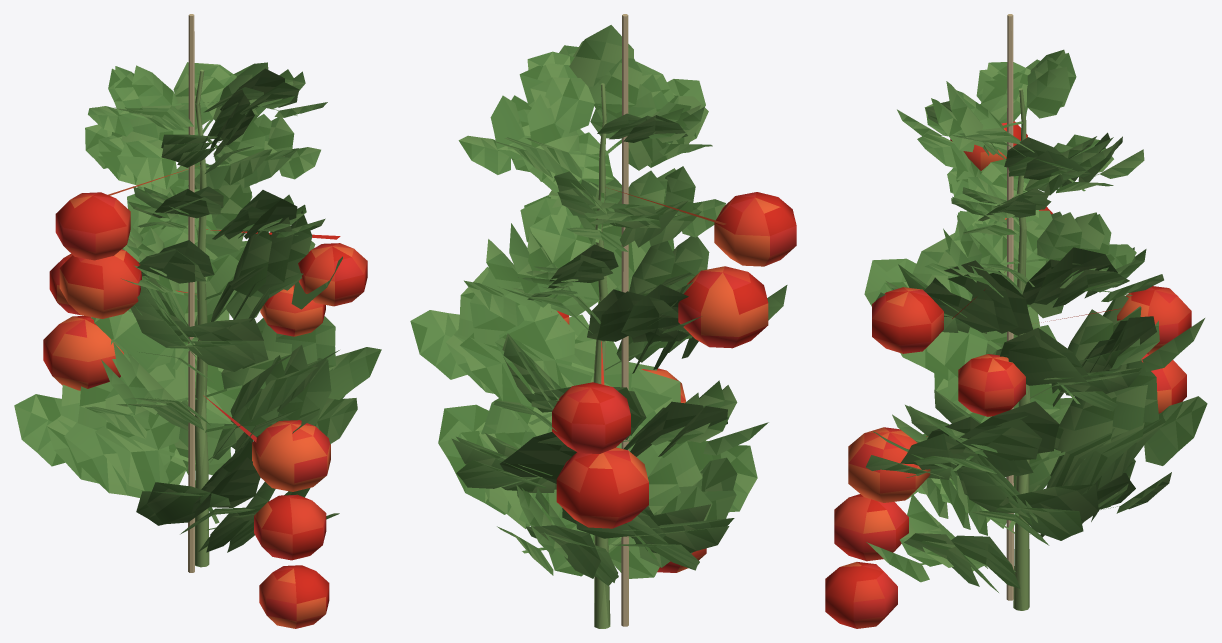
The model's file is tomate_coeur_mur.glb.
The picture shows the model from 3 angles, left to right: view 1: azimuth 30°, elevation 25°; view 2: azimuth 150°, elevation 25°; view 3: azimuth 270°, elevation 25°; orthographic projection. The views are drawn at different scales.
Visible parts, largest first — view 1: Tomate_Feuilles, Tomate_Fruits, Tomate_Tige, Tomate_Tuteur; view 2: Tomate_Feuilles, Tomate_Fruits, Tomate_Tuteur, Tomate_Tige; view 3: Tomate_Feuilles, Tomate_Fruits, Tomate_Tige, Tomate_Tuteur.
Part boxes in pixels (x1,y1,x2,y2): Tomate_Feuilles: (14, 62, 381, 552); Tomate_Fruits: (43, 169, 367, 628); Tomate_Tige: (195, 69, 209, 567); Tomate_Tuteur: (188, 14, 194, 572); Tomate_Feuilles: (410, 25, 787, 585); Tomate_Fruits: (552, 188, 796, 572); Tomate_Tuteur: (621, 14, 628, 626); Tomate_Tige: (593, 83, 610, 628); Tomate_Feuilles: (864, 49, 1207, 592); Tomate_Fruits: (825, 121, 1191, 628); Tomate_Tige: (1013, 88, 1030, 610); Tomate_Tuteur: (1006, 14, 1013, 600).
Size of the model in its own units: 0.6069 by 1.08 by 0.6282.
